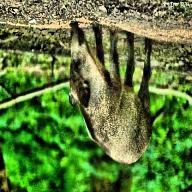boar: (66, 21, 158, 163)
